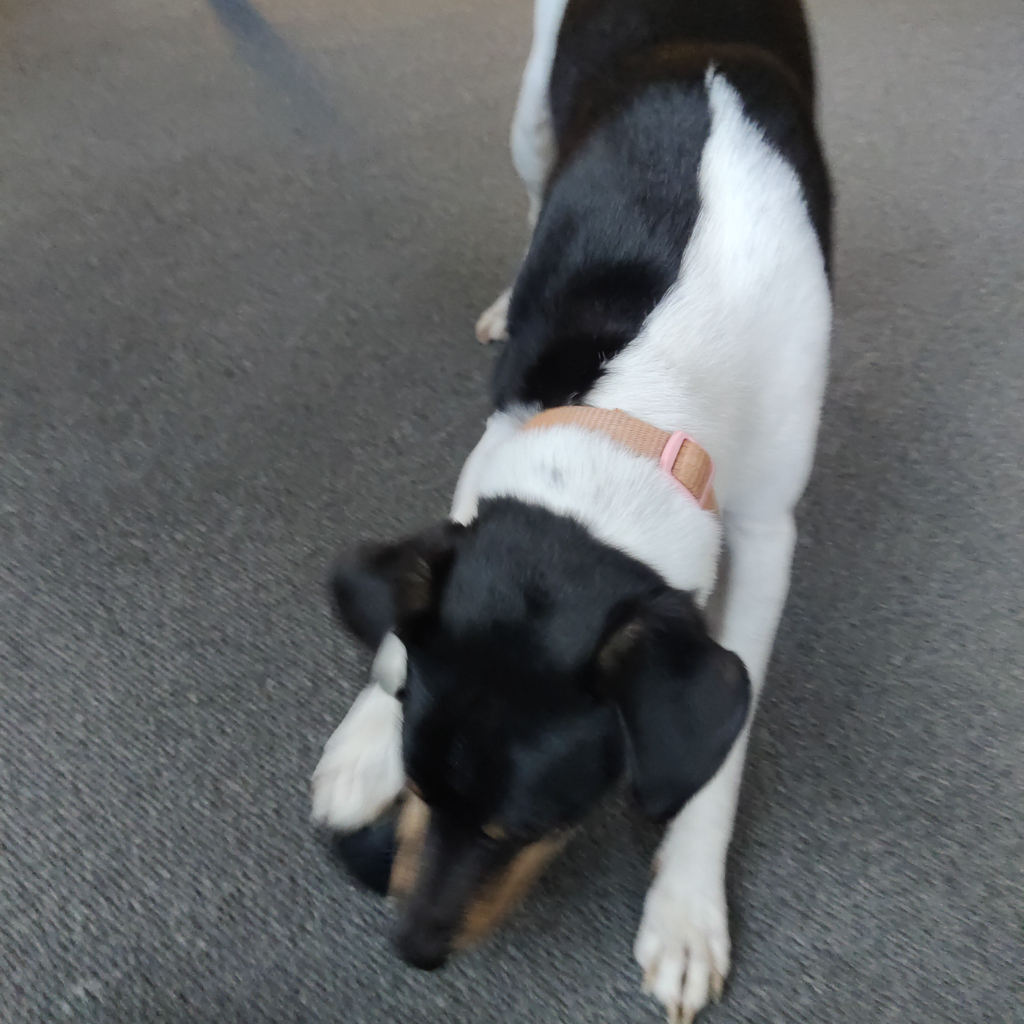Dog: (275, 0, 873, 1024)
